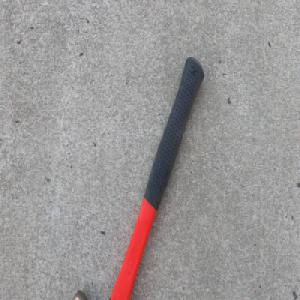Hammer: (70, 54, 204, 300)
